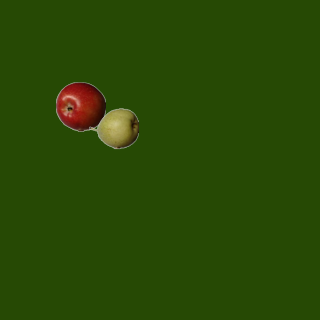Apple Braeburn: (55, 81, 105, 131)
Pear: (88, 103, 138, 153)
